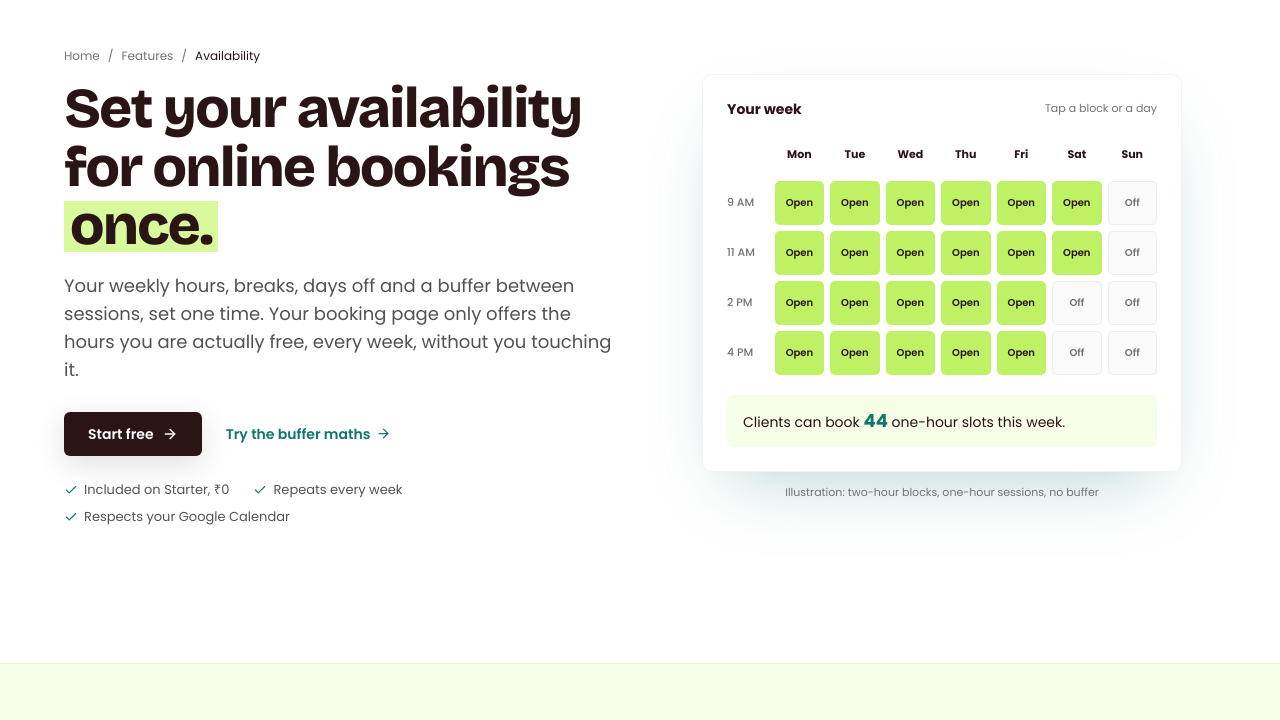
Test case: Availability feature page › updates the weekly slot count when a block is toggled
Expected: the text with test id "week-slots" reads "44", [864,408,888,433]
Click the button with aria-label "Monday 9 AM" at (799, 203), box [775,181,824,225]
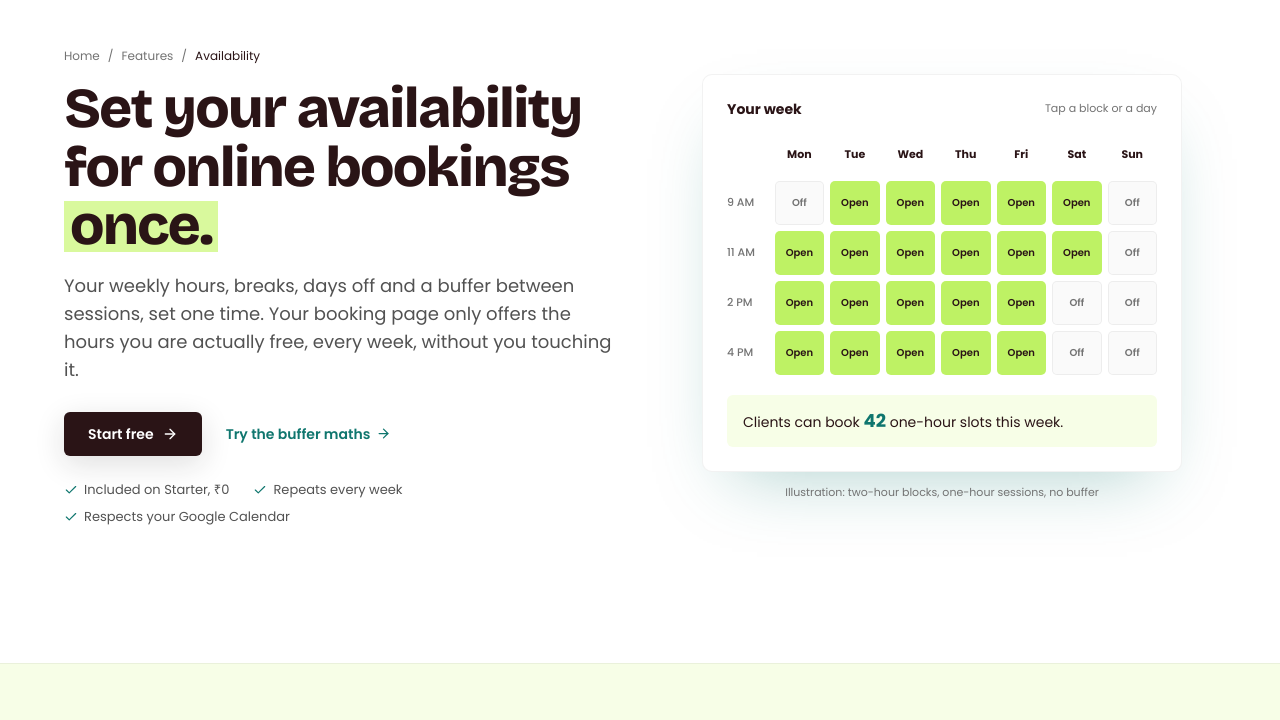
Now the text with test id "week-slots" reads "42", box [864,408,886,433]
Click the button with aria-label "open all of sunday" at (1132, 155), box [1108,135,1157,175]
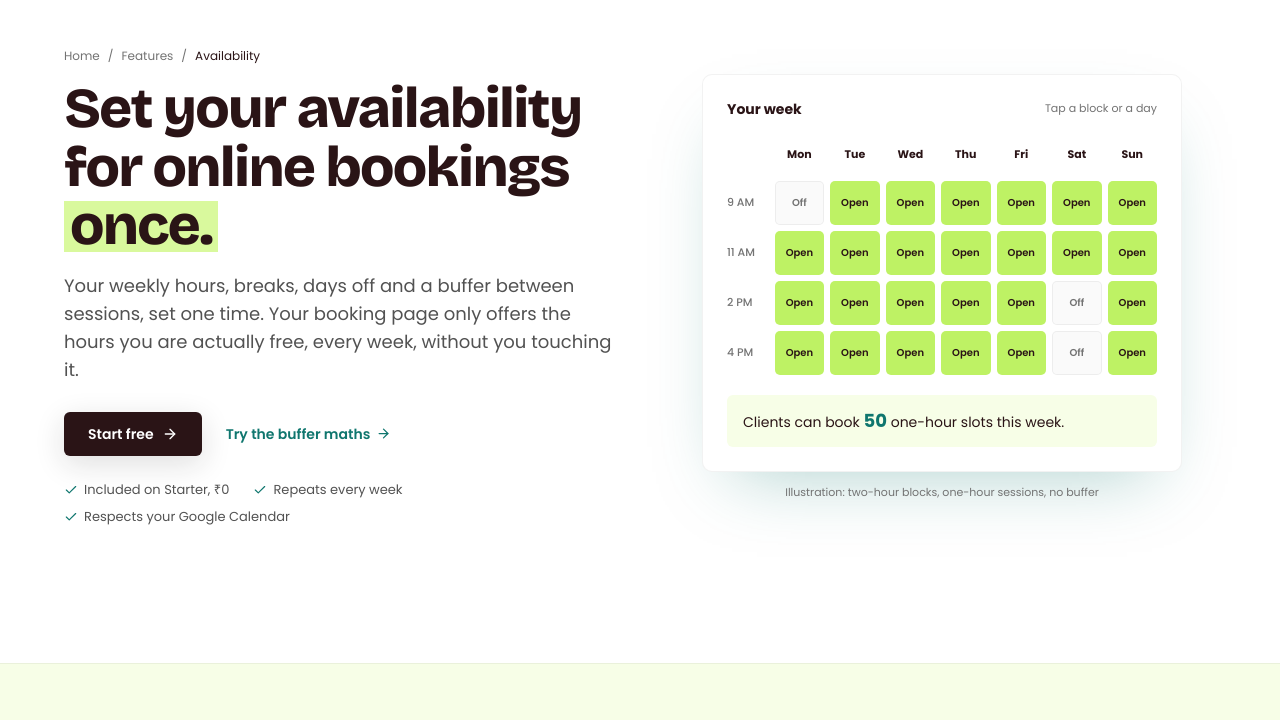
Now the text with test id "week-slots" reads "50", box [864,408,887,433]
